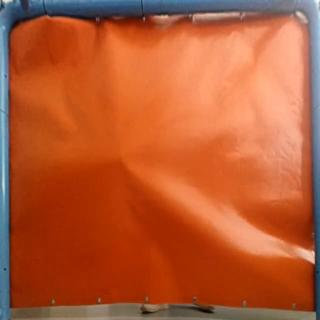Hit-hRxx: (115, 154, 129, 165)
